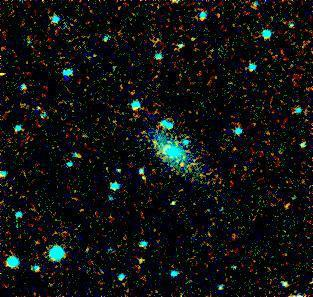star: (273, 190, 303, 220)
